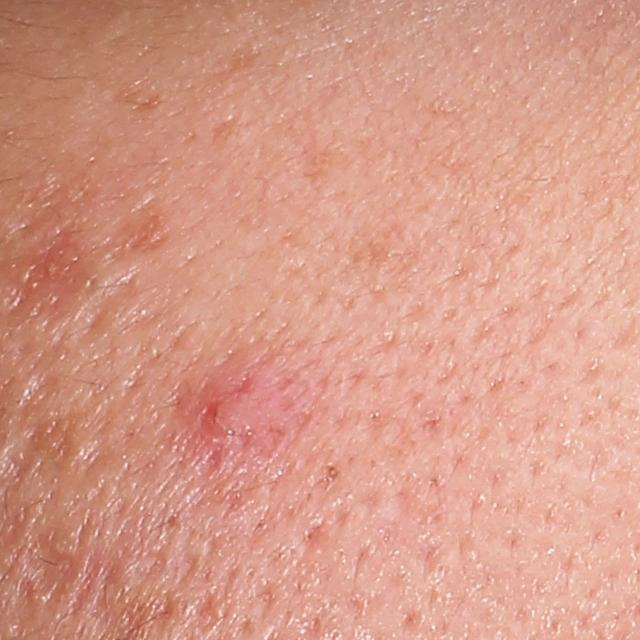atrophic_scar: (13, 525, 81, 615)
melasma: (111, 203, 179, 267), (297, 136, 342, 188), (221, 35, 265, 84), (209, 111, 240, 155)
